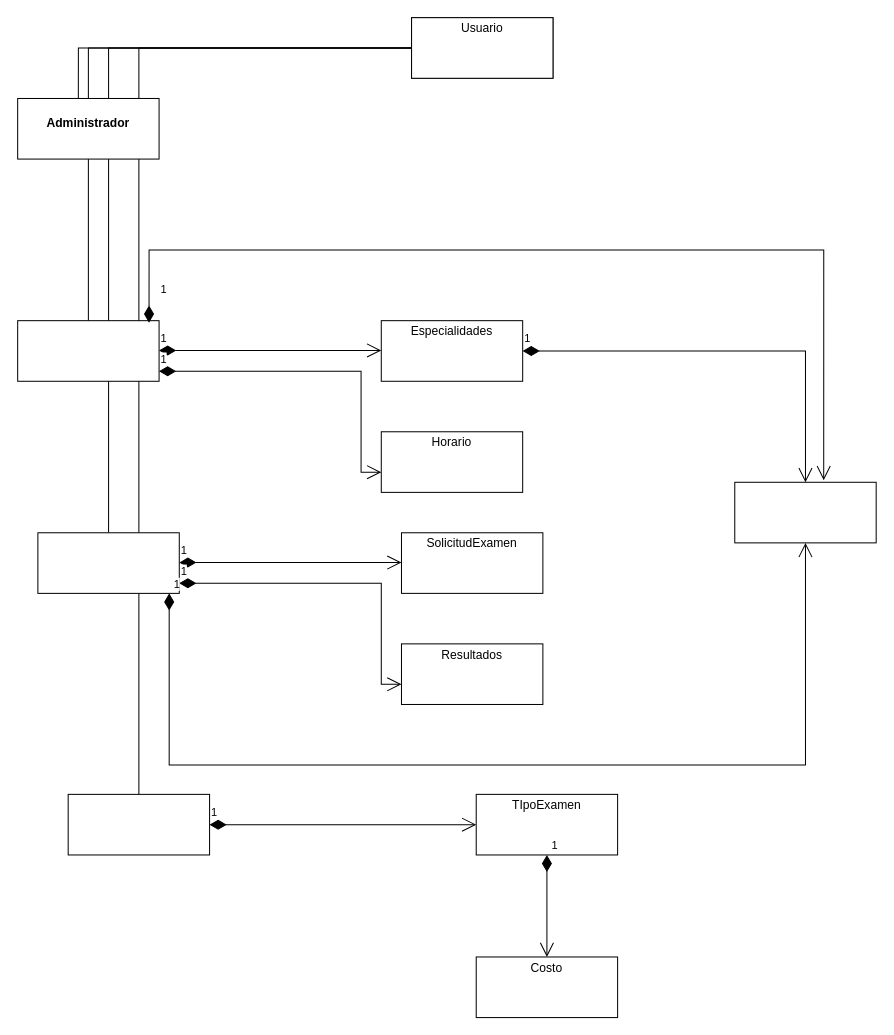
Some shapes in this 894 by 1035 pixel diagram are drawn without their labels. Here are the shapes that lost their labels. From the top down, the box of each, then its label:
(17, 320, 159, 381): Médico
(734, 481, 876, 543): consulta
(37, 532, 179, 593): Paciente
(67, 793, 210, 855): Laboratorio
